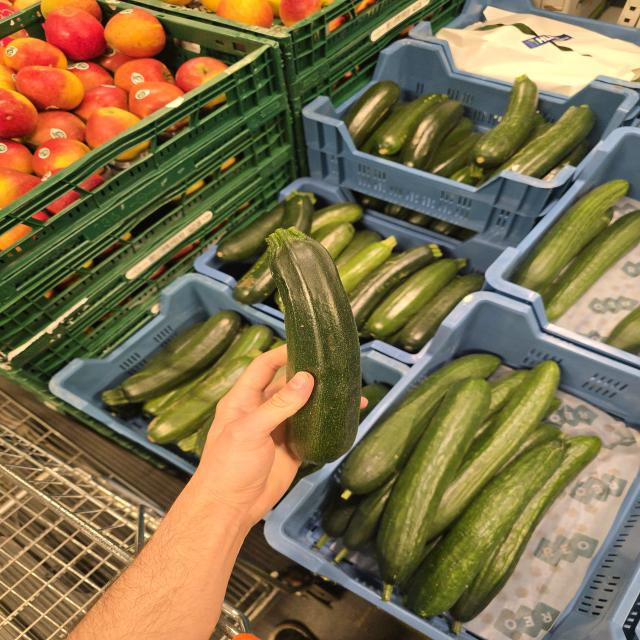Apple: (43, 7, 107, 61), (104, 8, 165, 58), (16, 66, 84, 110), (32, 138, 90, 181), (85, 107, 140, 149), (128, 81, 185, 120), (114, 59, 175, 93)
Courgette: (268, 228, 361, 467), (120, 311, 241, 403), (363, 258, 467, 340), (389, 273, 484, 353), (471, 74, 538, 168), (377, 94, 448, 157), (402, 99, 464, 169)
